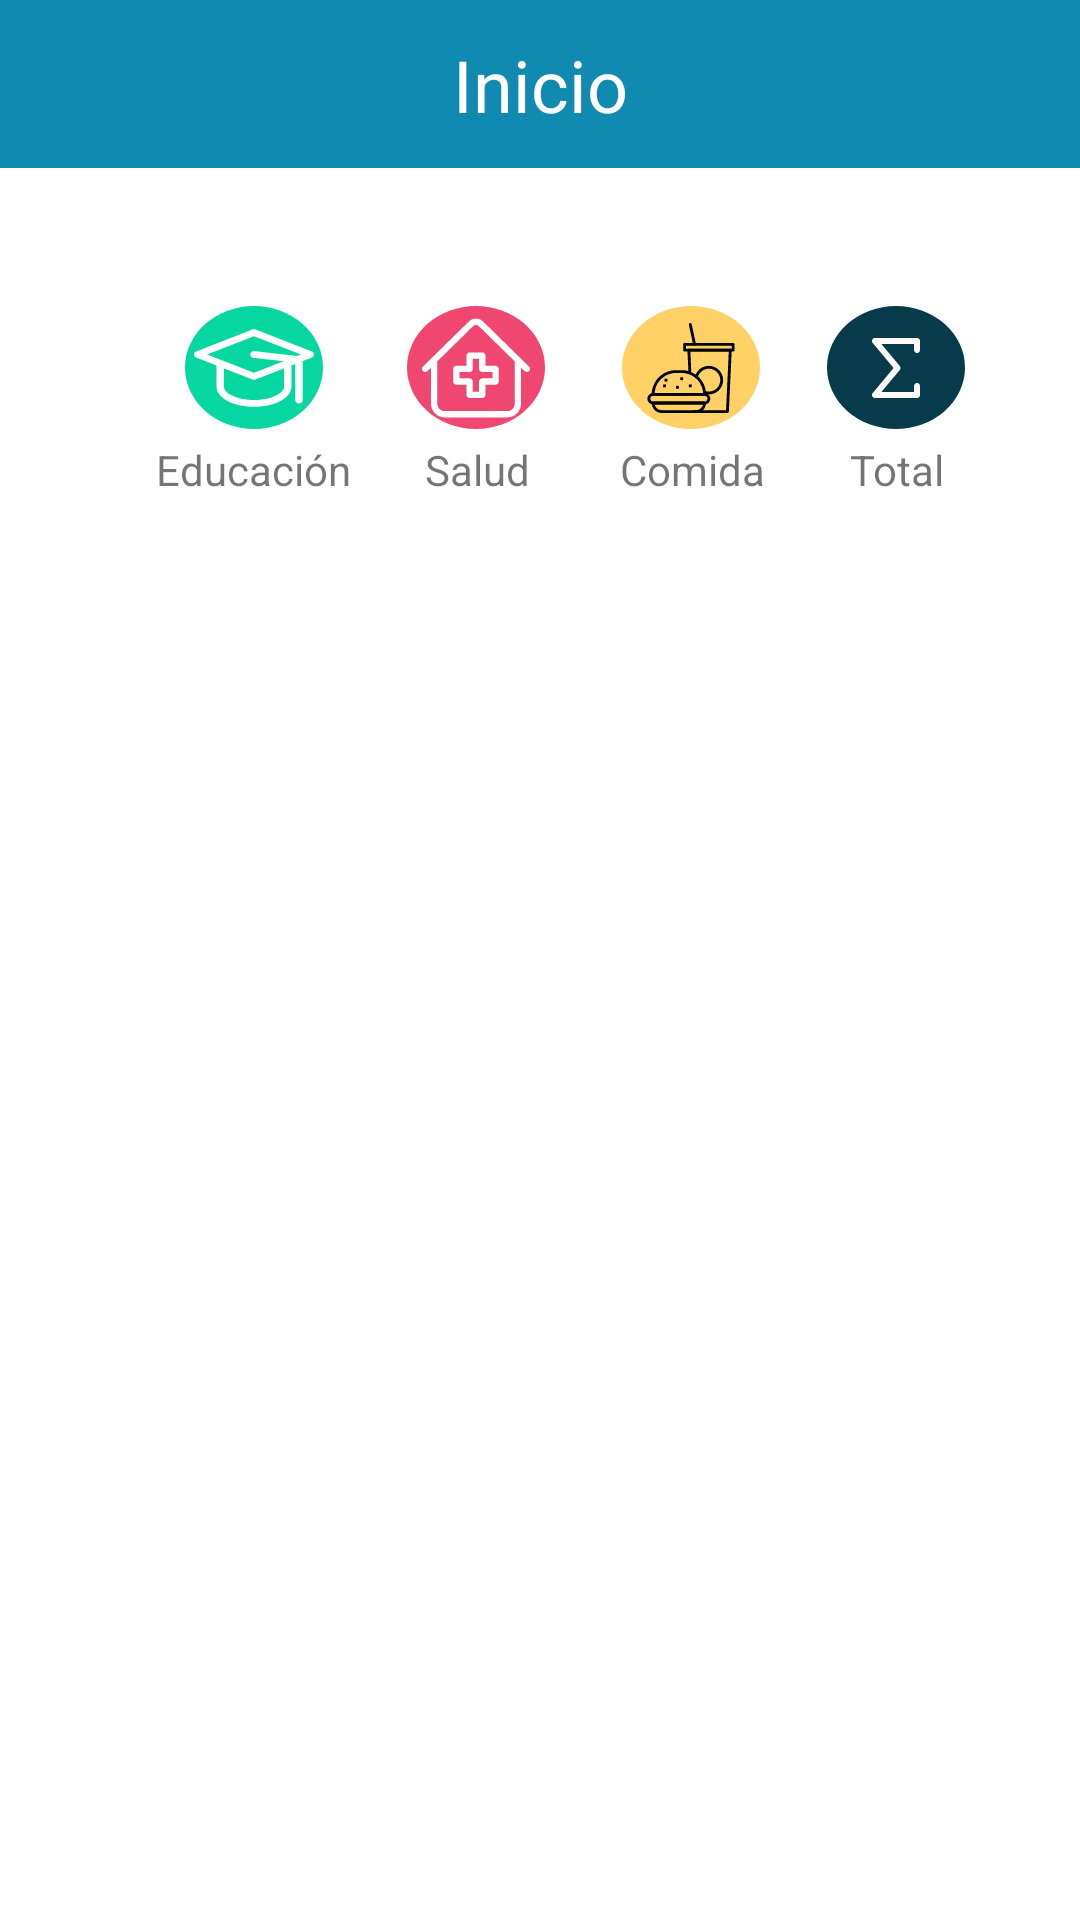

Where icons sit on this 1080px×1920px app screen, as (x1, y1, x2, y2):
hospital: (407, 306, 545, 429)
school: (185, 306, 323, 429)
